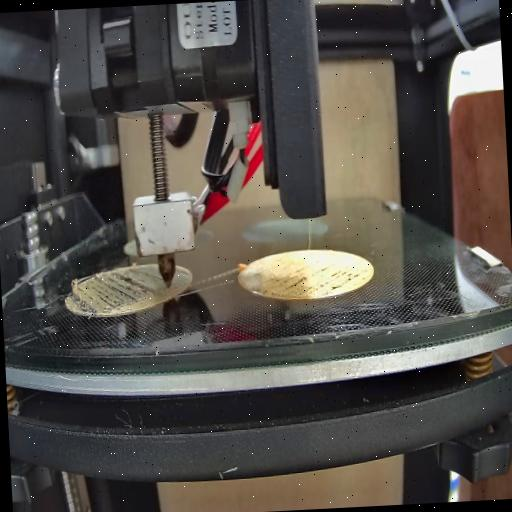under_extrusion: (72, 272, 162, 308), (272, 261, 364, 296), (248, 284, 270, 296)
